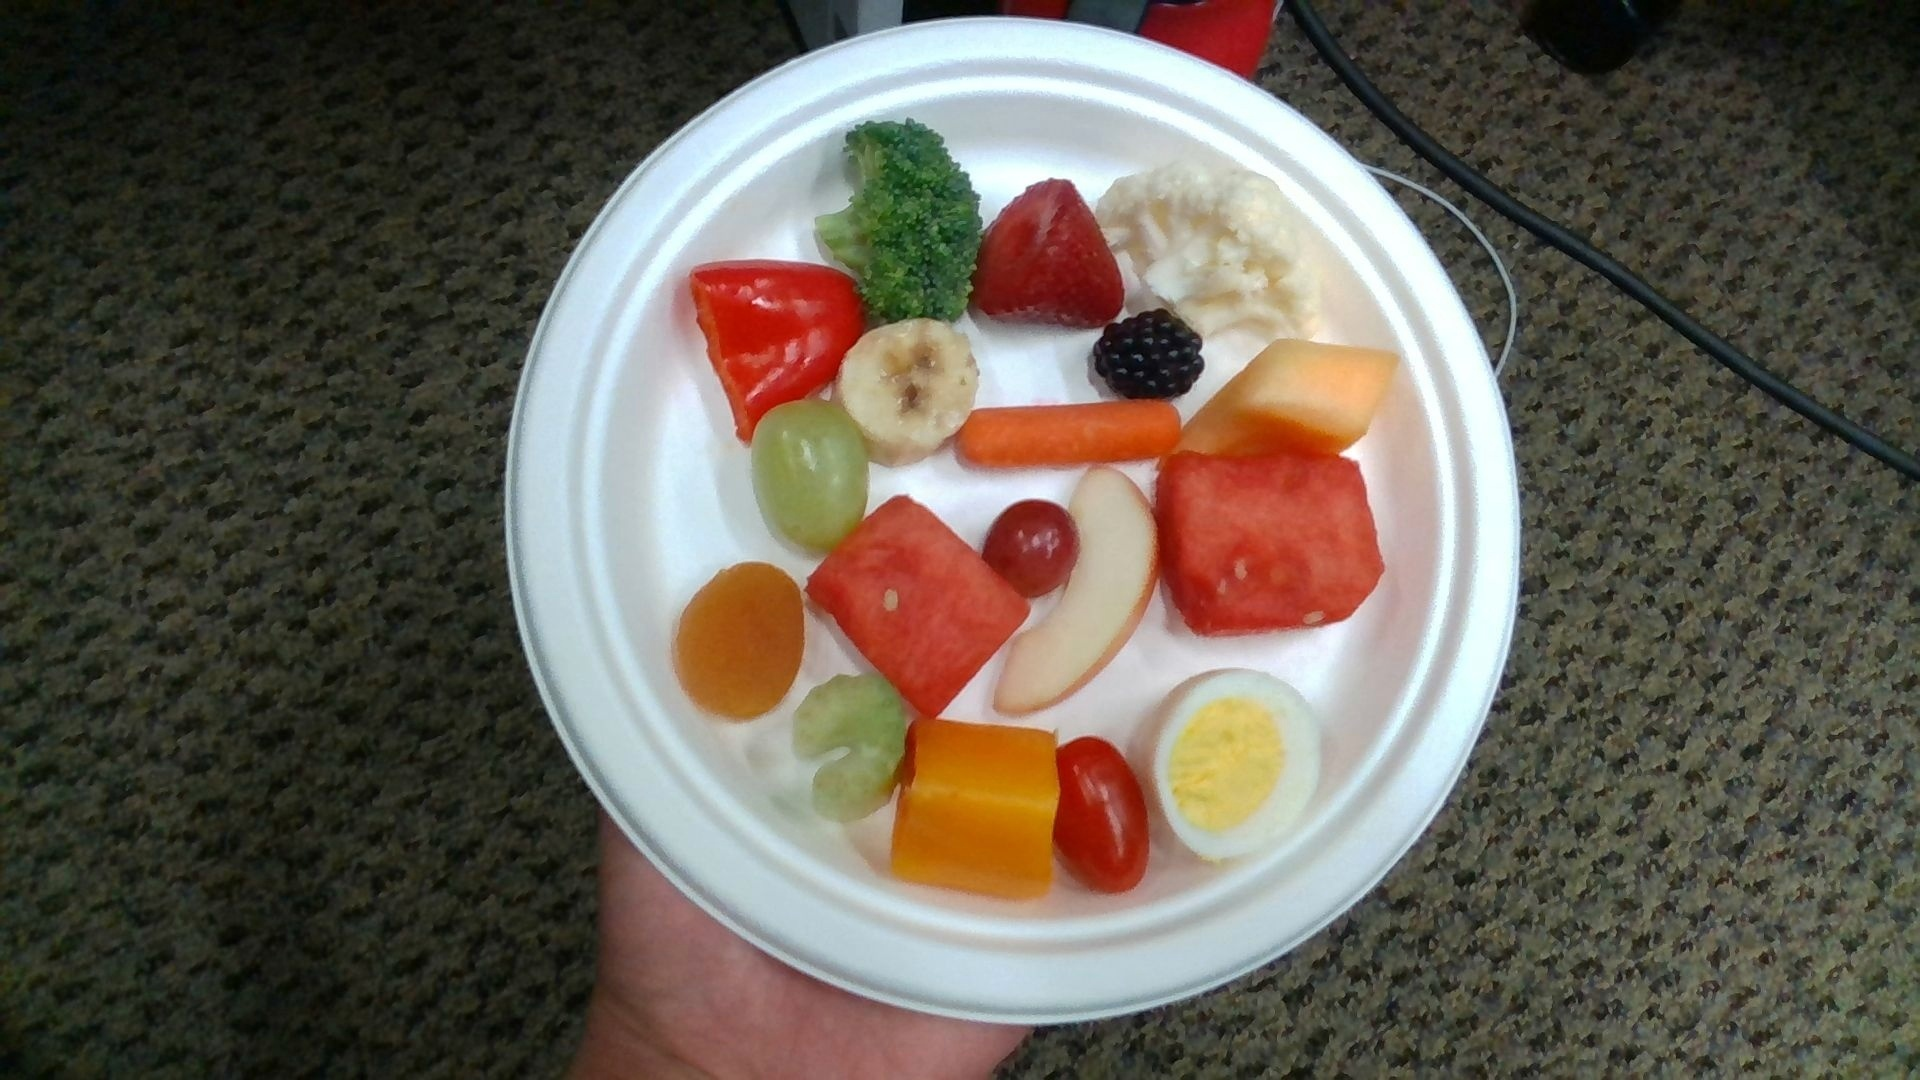apple: (1000, 465, 1154, 711)
apricot: (676, 563, 804, 721)
banana: (837, 318, 975, 462)
bell_pepper: (690, 260, 858, 436), (891, 721, 1059, 899)
blackberry: (1095, 311, 1205, 398)
broccoli: (812, 121, 975, 320)
cantalope: (1167, 338, 1396, 444)
carrot: (955, 400, 1179, 460)
cauliflower: (1095, 160, 1331, 338)
celery: (796, 675, 905, 814)
cherry_tomato: (1052, 738, 1149, 891)
egg: (1150, 670, 1320, 860)
grape_green: (752, 400, 865, 546)
grape_purple: (986, 501, 1080, 595)
melon: (808, 498, 1025, 716), (1155, 451, 1379, 633)
strawberry: (975, 181, 1120, 326)
